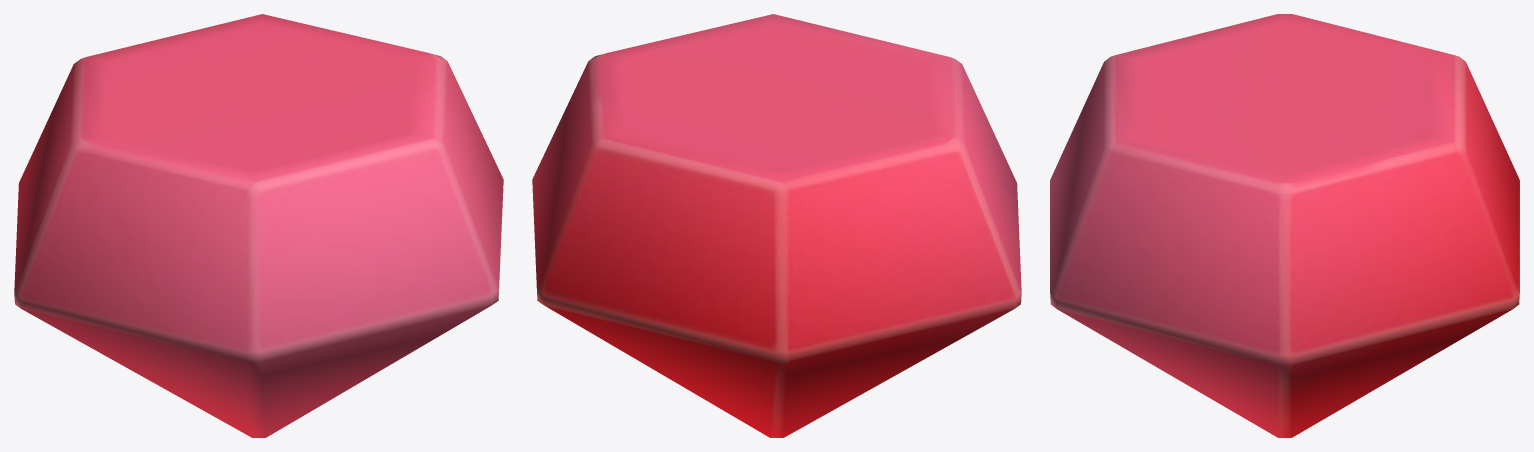
Rendered from gem-pink.glb.
3 views of the same model, side by side, from view 1: azimuth 30°, elevation 25°; view 2: azimuth 150°, elevation 25°; view 3: azimuth 270°, elevation 25° (orthographic).
Size of the model in its own units: 1 by 0.6624 by 0.8428.
Materials: 1 (1 with a texture image).
